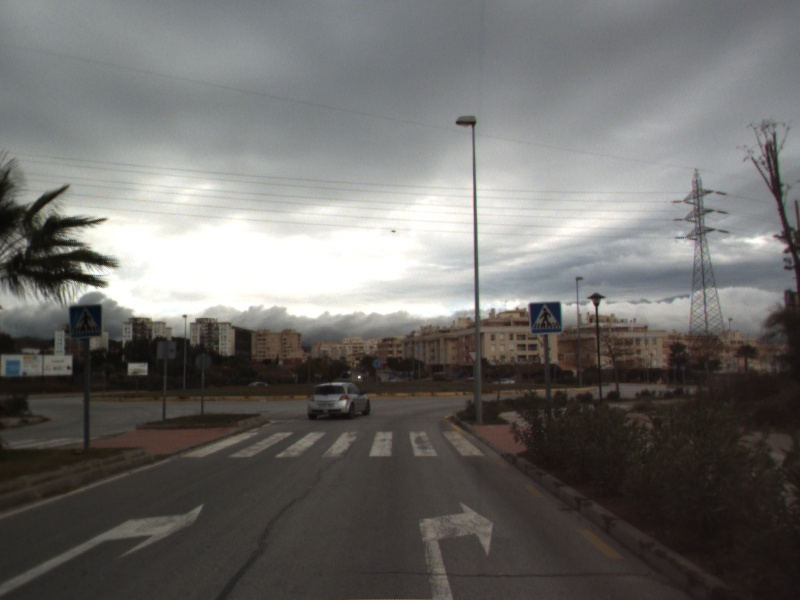RIGHT: (1, 500, 206, 597), (416, 499, 496, 600)
